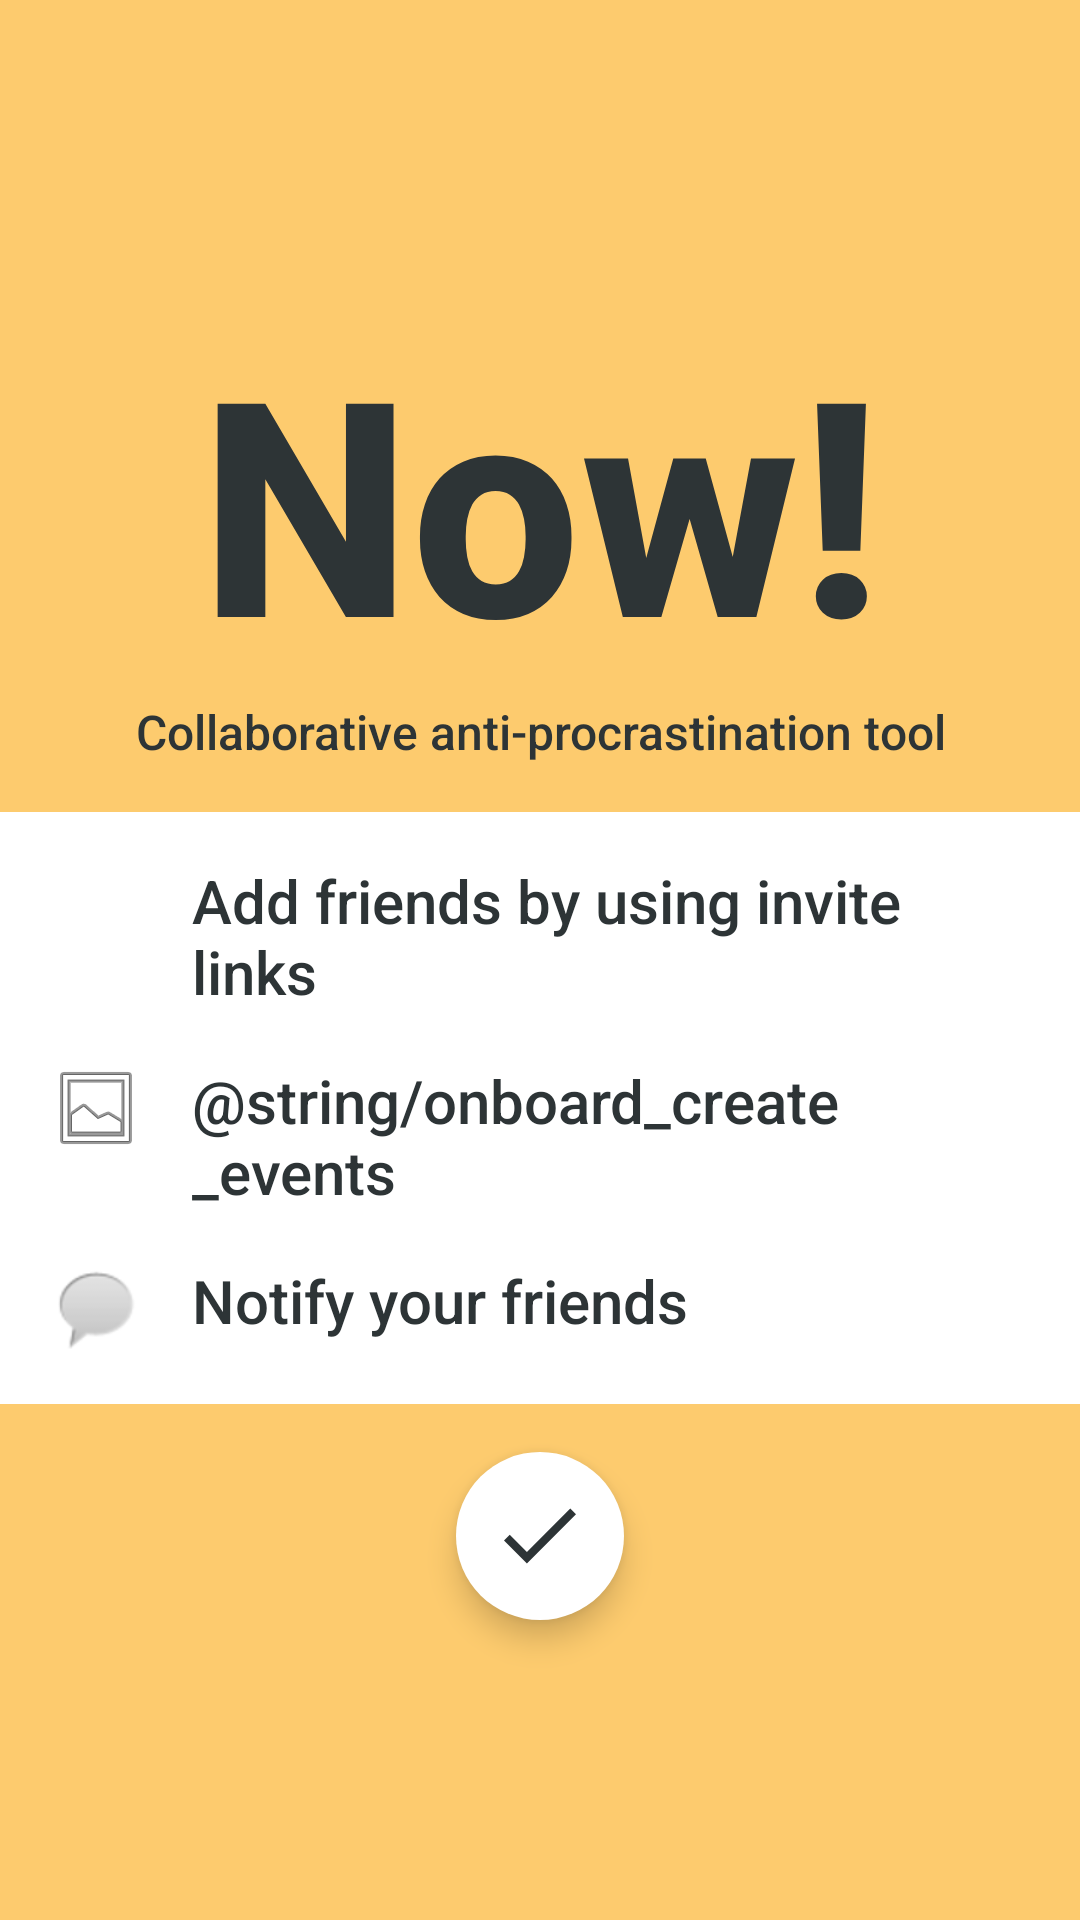

Screen size 1080px x 1920px. Icon name, then its box in pixels as (x1, y1, x2, y2):
check symbol: (456, 1452, 624, 1620)
gallery: (60, 1072, 132, 1144)
sym action chat: (59, 1272, 132, 1347)
